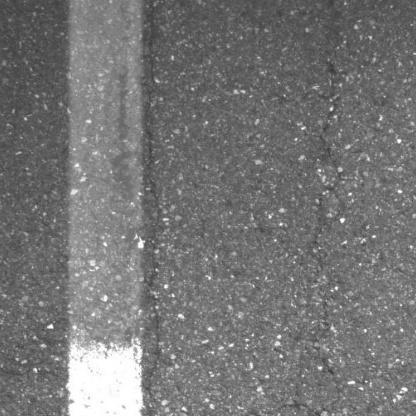Cracks: (271, 36, 351, 281), (252, 294, 346, 416), (141, 62, 166, 416)
